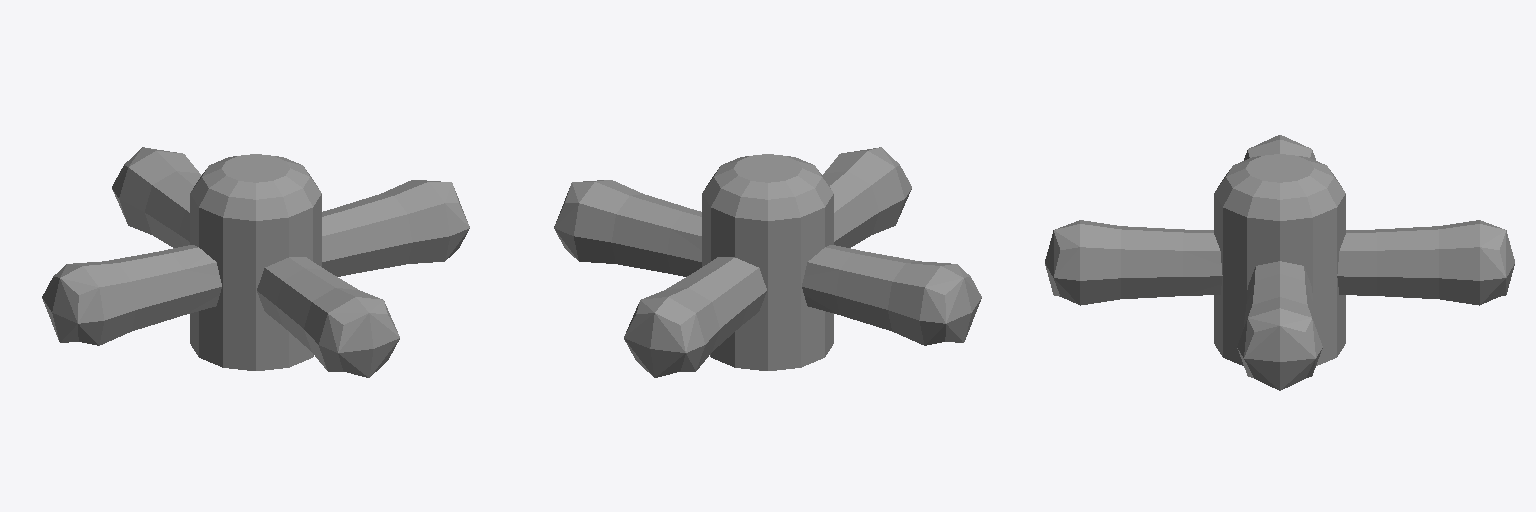
The picture shows the model from 3 angles: view 1: azimuth 30°, elevation 25°; view 2: azimuth 150°, elevation 25°; view 3: azimuth 270°, elevation 25°; orthographic projection.
Visible parts, largest first — view 1: part4:faucet handle 1; view 2: part4:faucet handle 1; view 3: part4:faucet handle 1.
Boxes of the visible parts, box(x1,y1,x2,y2) form: part4:faucet handle 1: box(42, 147, 469, 377); part4:faucet handle 1: box(554, 147, 981, 377); part4:faucet handle 1: box(1045, 135, 1514, 390).
Bounding box in the file's own units: 0.0555 × 0.0228 × 0.0555.